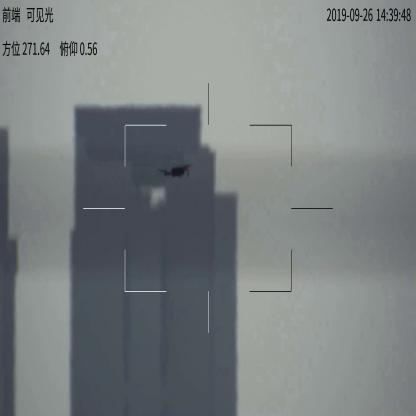uav: (157, 163, 192, 180)
